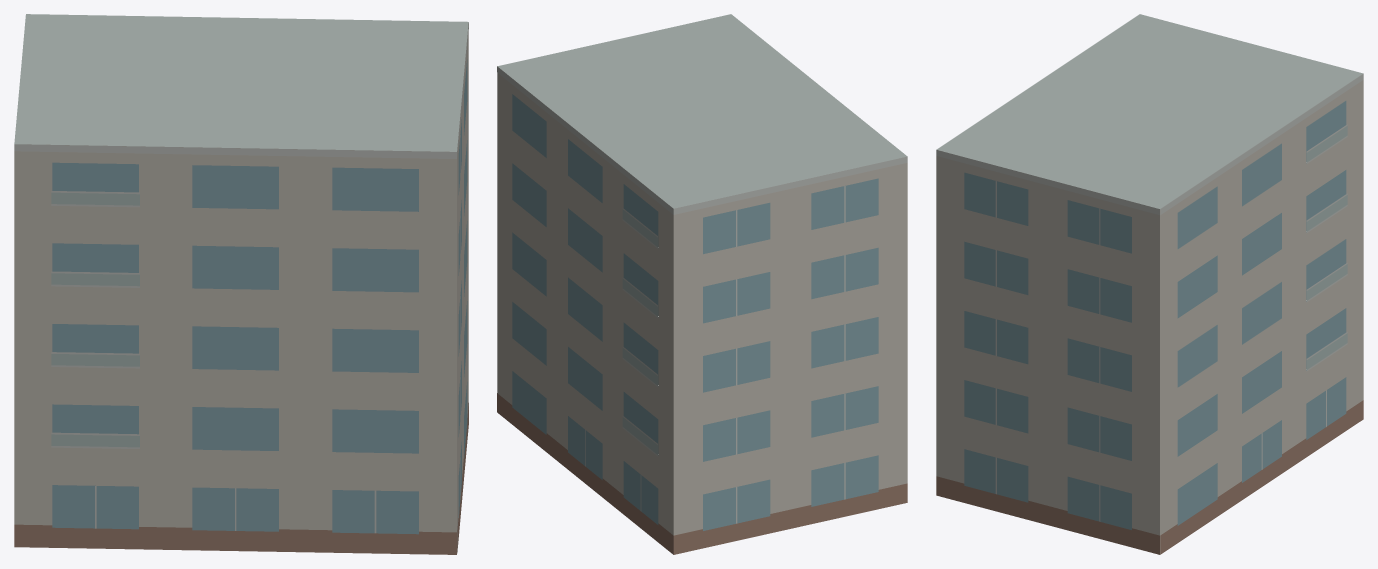
Rendered from survey-upis-32918968.glb.
The picture shows the model from 3 angles, left to right: view 1: azimuth 30°, elevation 25°; view 2: azimuth 150°, elevation 25°; view 3: azimuth 270°, elevation 25°; orthographic projection. The views are drawn at different scales.
Parts seen in each view (by area): view 1: survey-upis-32918968.tmp; view 2: survey-upis-32918968.tmp; view 3: survey-upis-32918968.tmp.
Boxes of the visible parts, x1=… form: survey-upis-32918968.tmp: x1=14, y1=14, x2=468, y2=554; survey-upis-32918968.tmp: x1=497, y1=14, x2=907, y2=554; survey-upis-32918968.tmp: x1=936, y1=14, x2=1363, y2=554.
Bounding box in the file's own units: 16.47 × 13.6 × 15.25.
